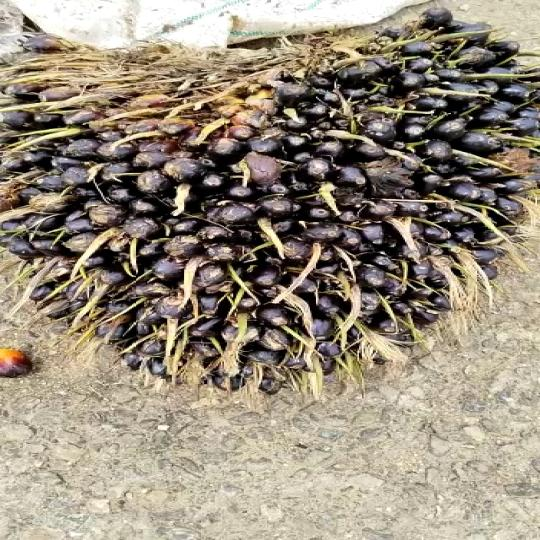mentah: (0, 0, 538, 402)
